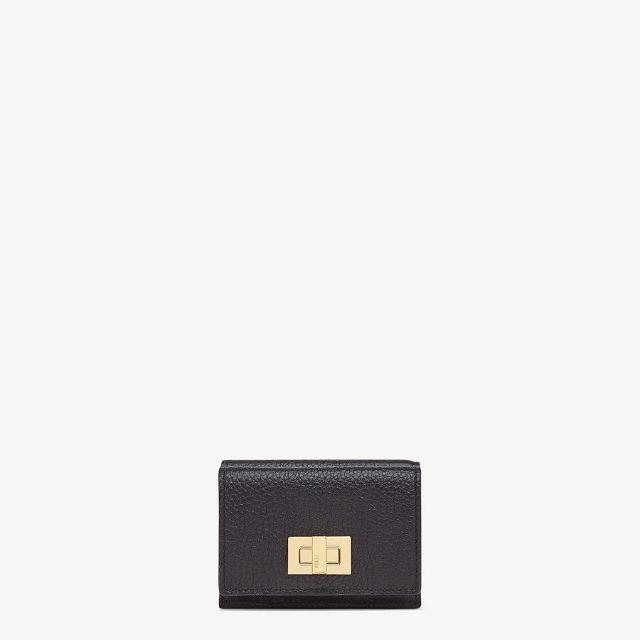wallet: (212, 450, 430, 618)
